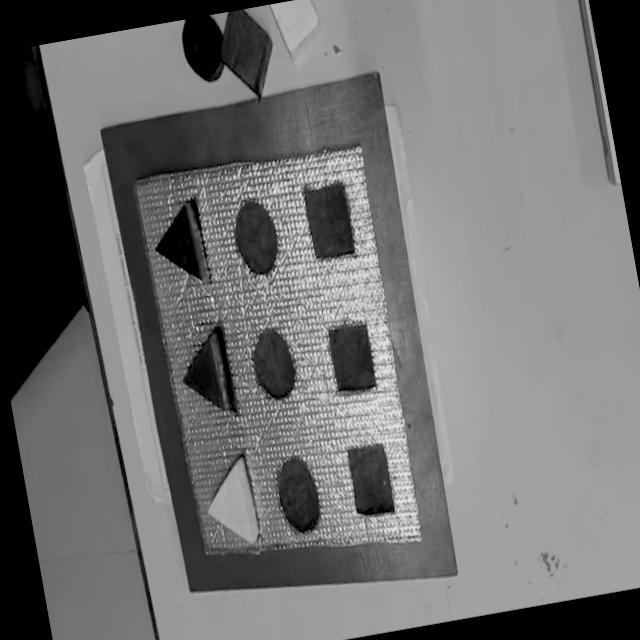bcircle: (178, 13, 230, 86)
btriangle: (148, 198, 214, 292)
mtcircle: (229, 196, 284, 282), (247, 323, 302, 405), (272, 455, 326, 538)
mtcube: (300, 178, 359, 266), (324, 317, 379, 398), (344, 441, 398, 521)
rcube: (213, 5, 282, 106)
rtriangle: (174, 327, 238, 420)
wb: (131, 134, 430, 579)
ycube: (269, 0, 324, 59)
ytriangle: (198, 452, 262, 552)
